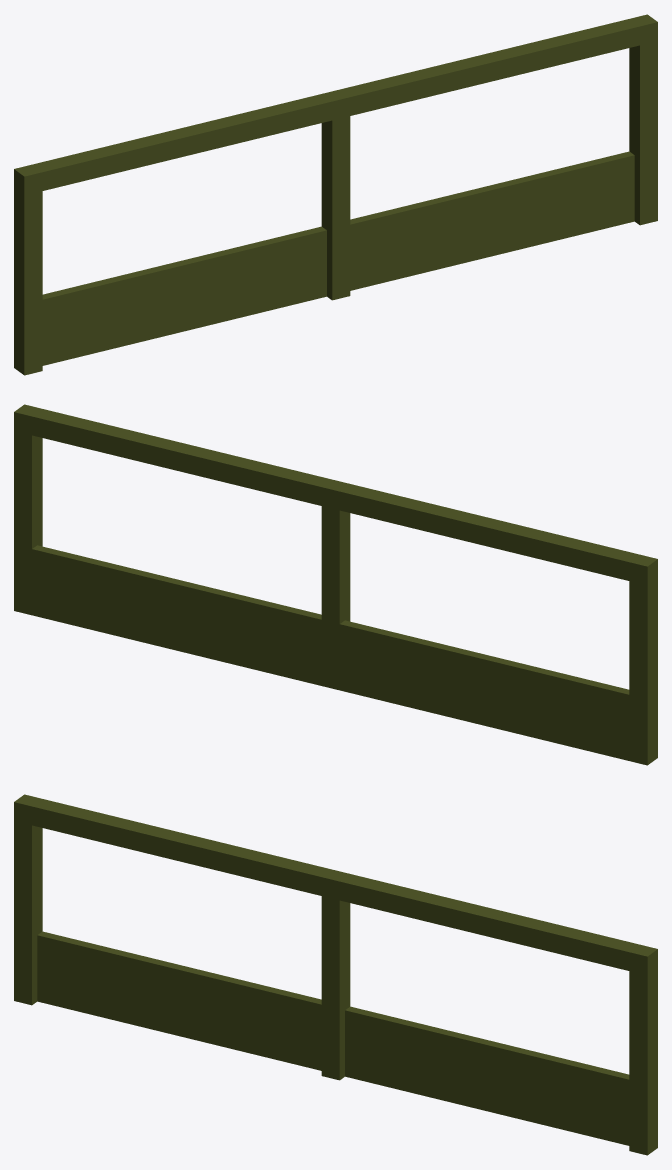
The model's file is checkpoint_barrier_trailer_side.glb.
3 renders of one model, top to bottom at view 1: azimuth 30°, elevation 25°; view 2: azimuth 150°, elevation 25°; view 3: azimuth 330°, elevation 25°, orthographic.
Parts seen in each view (by area): view 1: body:compound; view 2: body:compound; view 3: body:compound.
Boxes of the visible parts, x1=… form: body:compound: x1=14, y1=14, x2=657, y2=375; body:compound: x1=14, y1=404, x2=657, y2=765; body:compound: x1=14, y1=794, x2=657, y2=1155.
Bounding box in the file's own units: 2.19 × 0.6562 × 0.0625.
